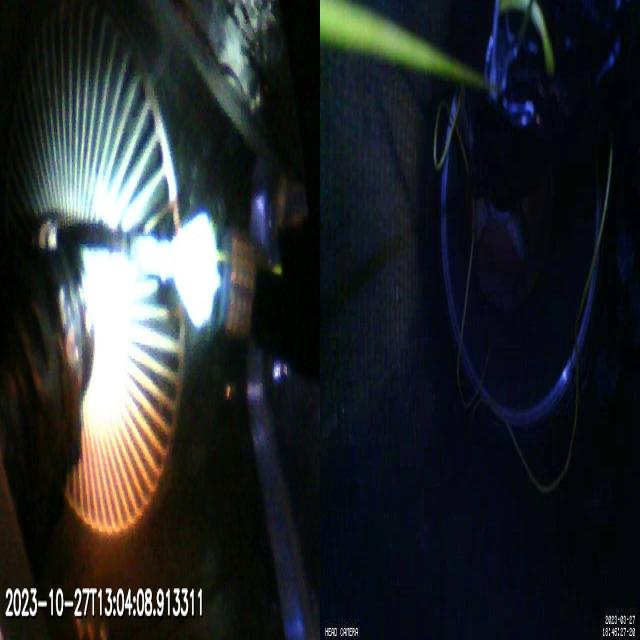head: (177, 215, 264, 343)
white-dots: (26, 213, 60, 257)
